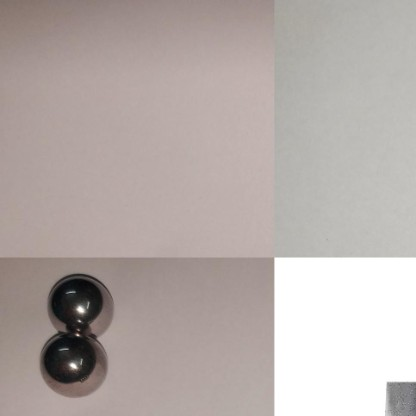ironball: (30, 330, 110, 403), (44, 269, 116, 337)
